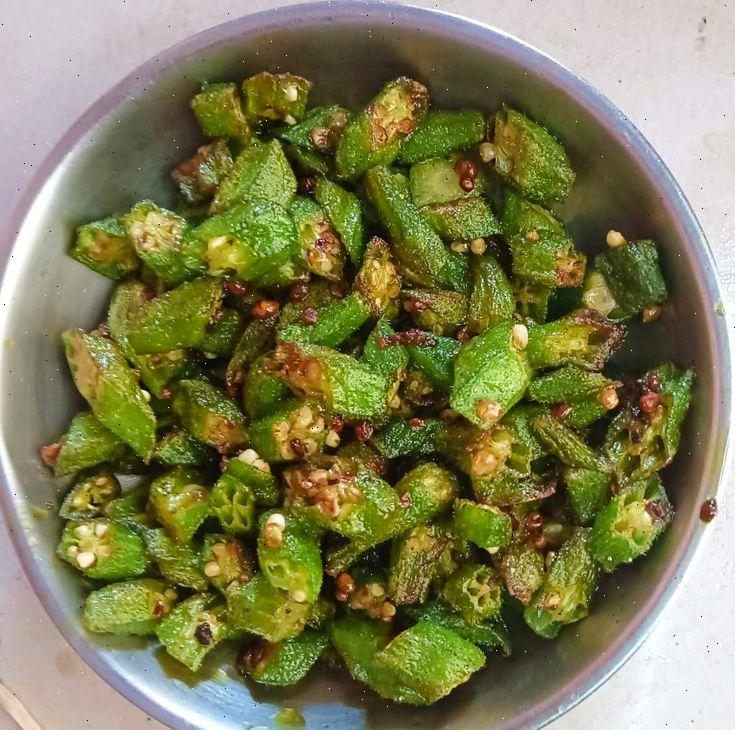bhindi: (66, 177, 644, 646)
